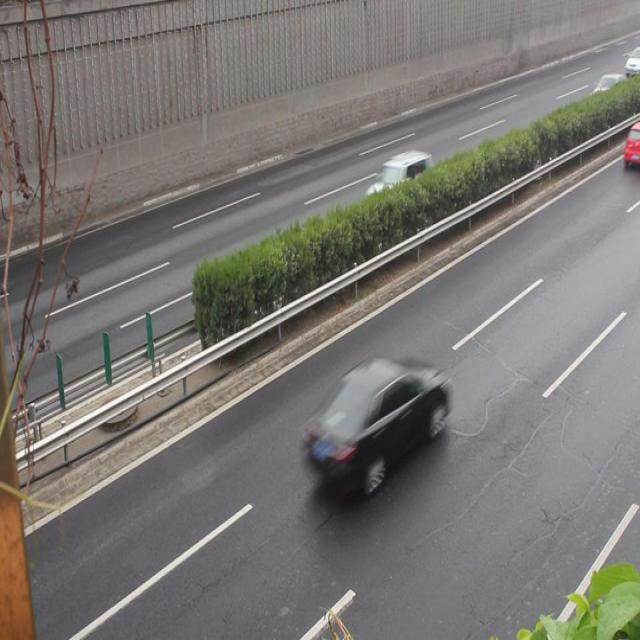car: (305, 352, 449, 491), (364, 151, 431, 219)
